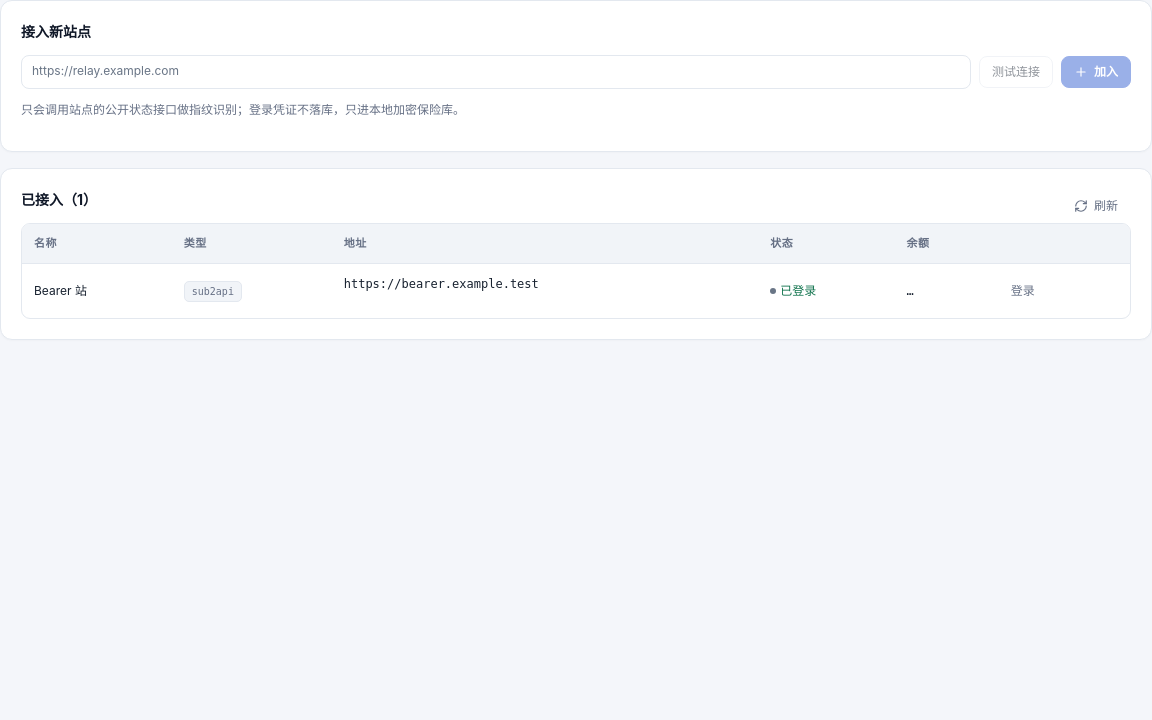
Test case: Sites 的人工验证面板（M28-S2：三态来自能力表） › bearer 站点：渲染自动文案与兜底按钮，并自动打开一次验证窗口
This screenshot has width=1152, height=720.
Click the button "登录".
click(1023, 291)  # box [998,275,1048,307]
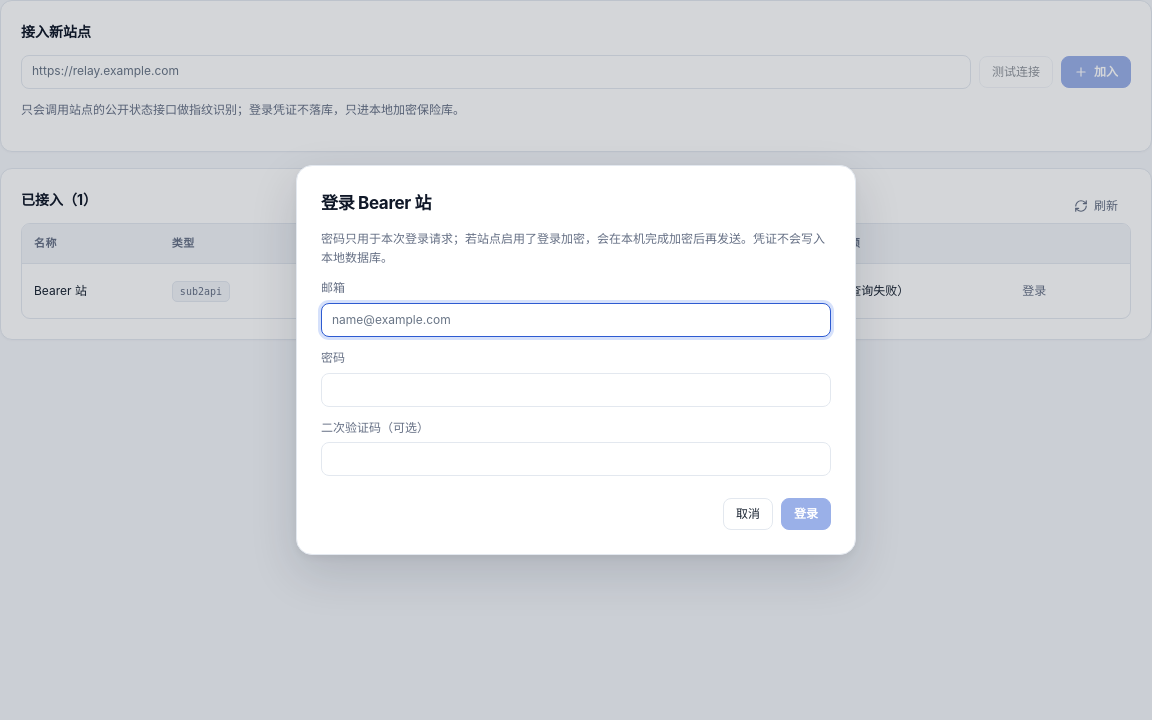
Type "me@example.test" into the field labelled "邮箱".
click(576, 320); type("me@example.test")  # box [321,303,831,337]
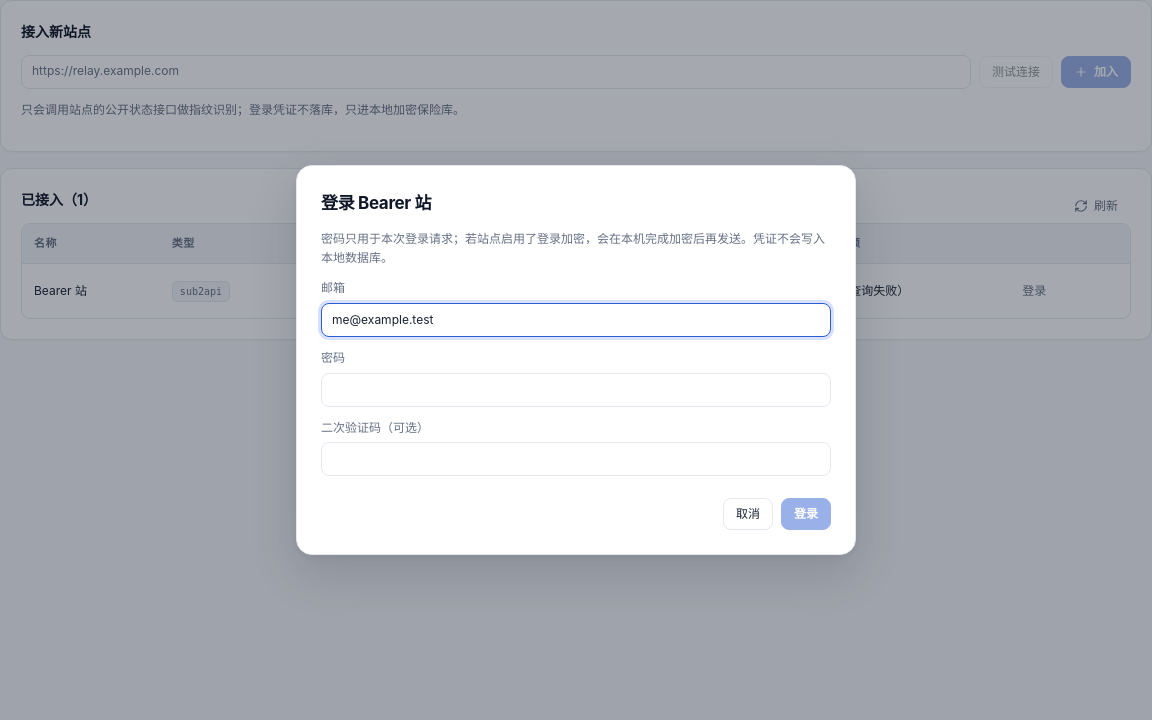
Type "pw-12345678" into the password field labelled "密码".
click(576, 390); type("pw-12345678")  # box [321,373,831,407]
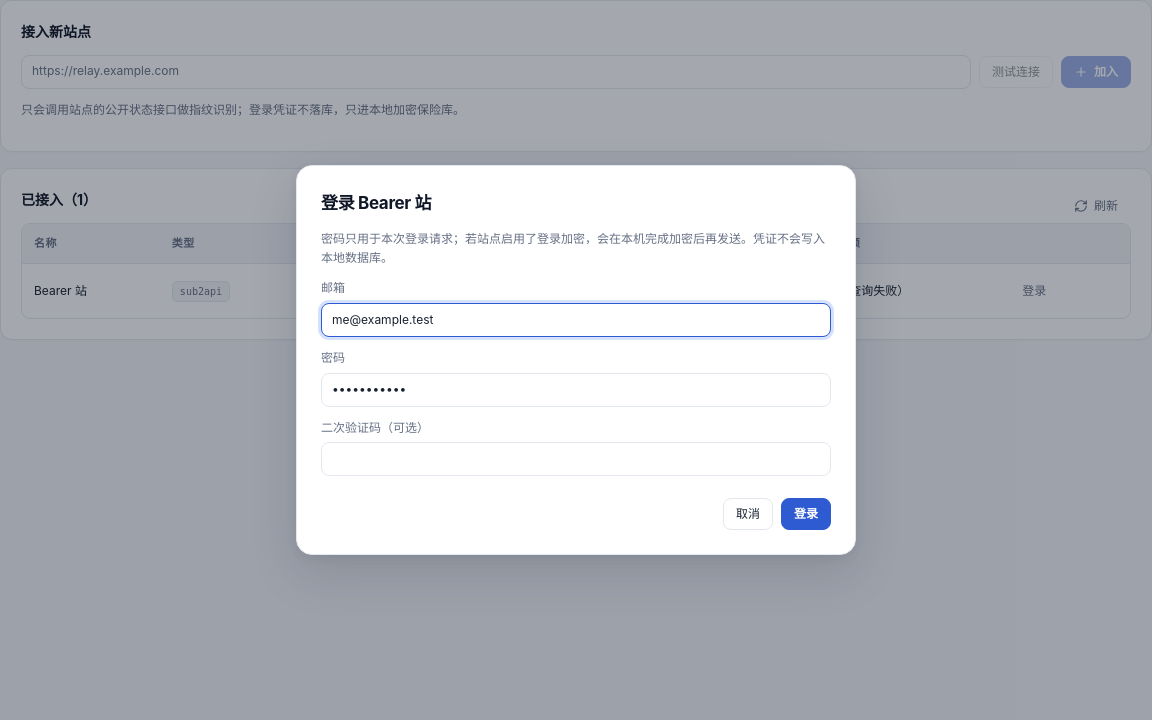
Click the button "登录".
click(806, 514)  # box [781,498,831,530]
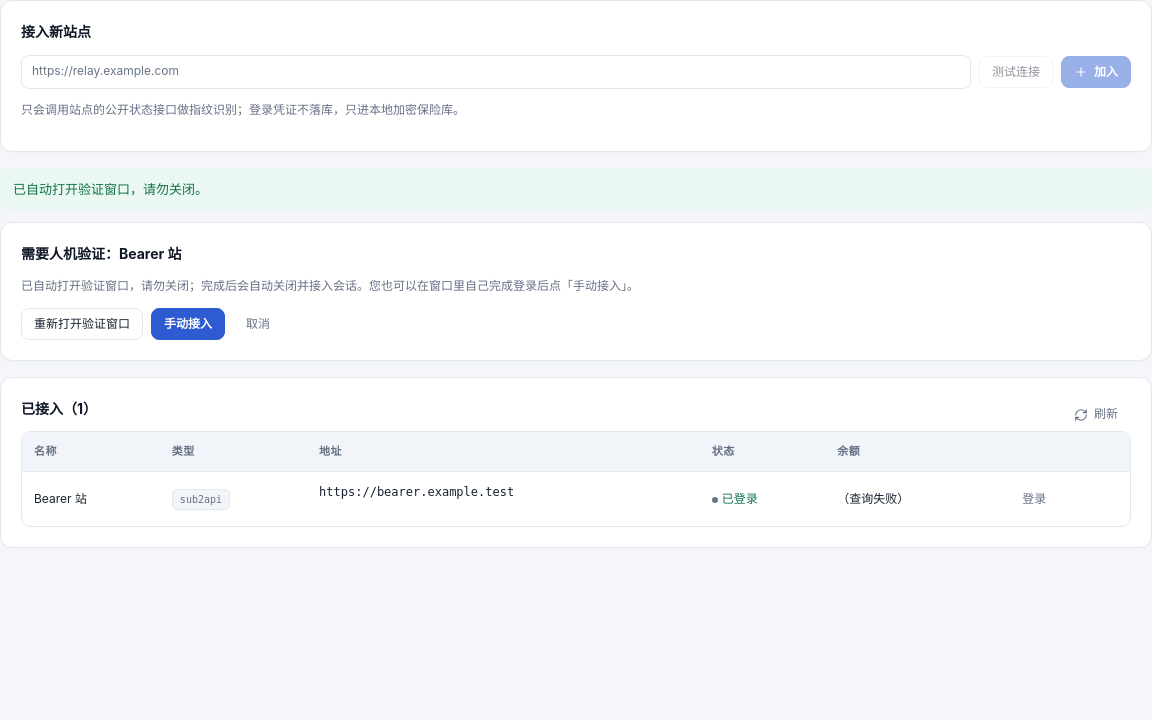
Result: the text "已自动打开验证窗口，请勿关闭；完成后会自动关闭并接入会话。您也可以在窗口里自己完成登录后点「手动接入」。" is shown at [21,278,639,293]
Result: the button "手动接入" is shown at [151,308,225,340]
Result: the button "重新打开验证窗口" is shown at [21,308,143,340]
